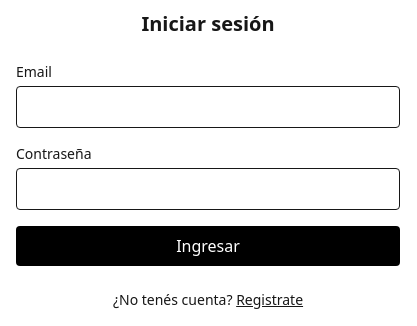
Test: LoginPage › deshabilita el botón mientras espera la respuesta
Type "barbero@test.com" into the field labelled "Email".
click(208, 107); type("barbero@test.com")  # box [16,86,400,128]
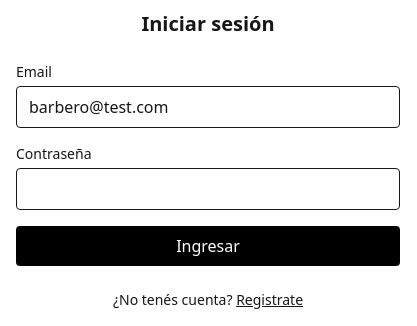
Type "123456" into the password field labelled "Contraseña".
click(208, 189); type("123456")  # box [16,168,400,210]
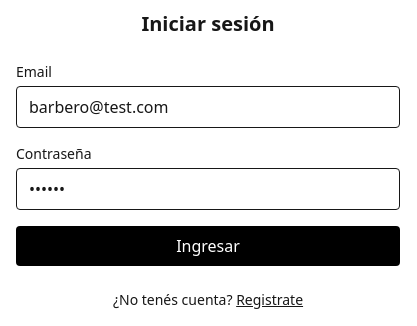
Click the button "Ingresar".
click(208, 246)  # box [16,226,400,266]
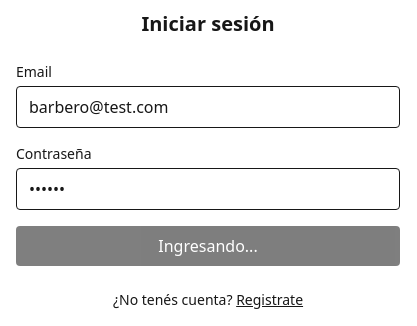
Now the button "Ingresando..." is disabled, box [16,226,400,266]
